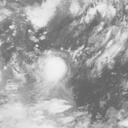cyclone: (39, 53, 67, 84)
